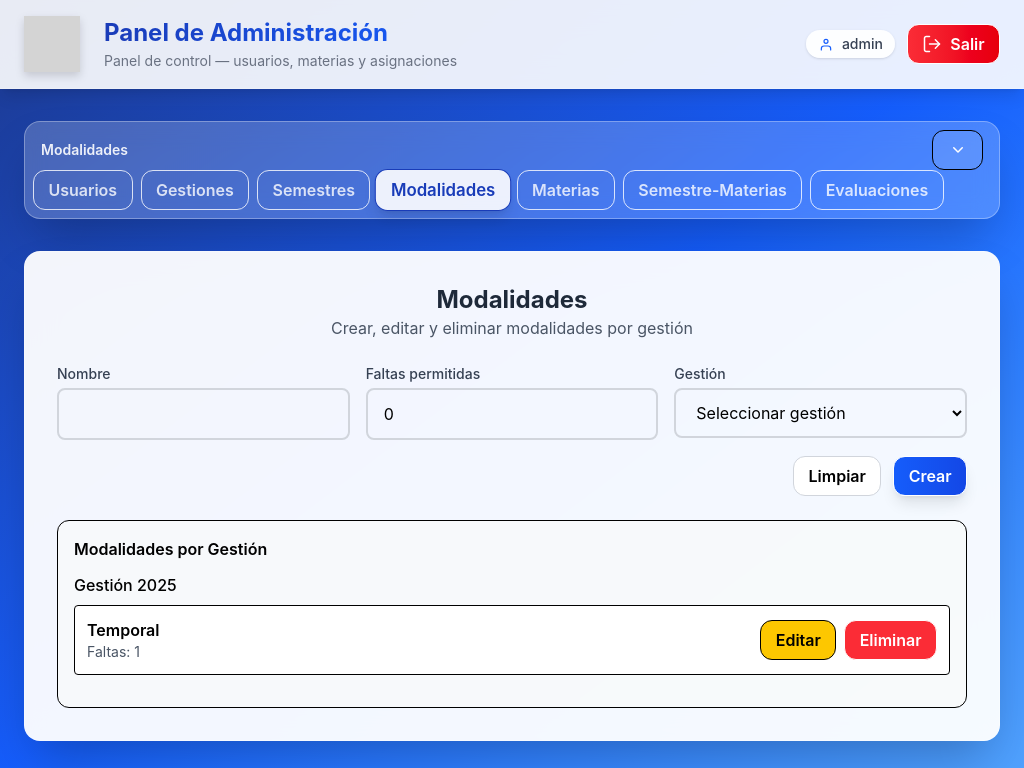
Test: E2E - Admin Modalidades (CRUD) › deletes a modalidad
// Esperar selector y crear la modalidad Temporal
Select "2025" in the dropdown named "gestionId" at (821, 413), box [674, 388, 967, 438]
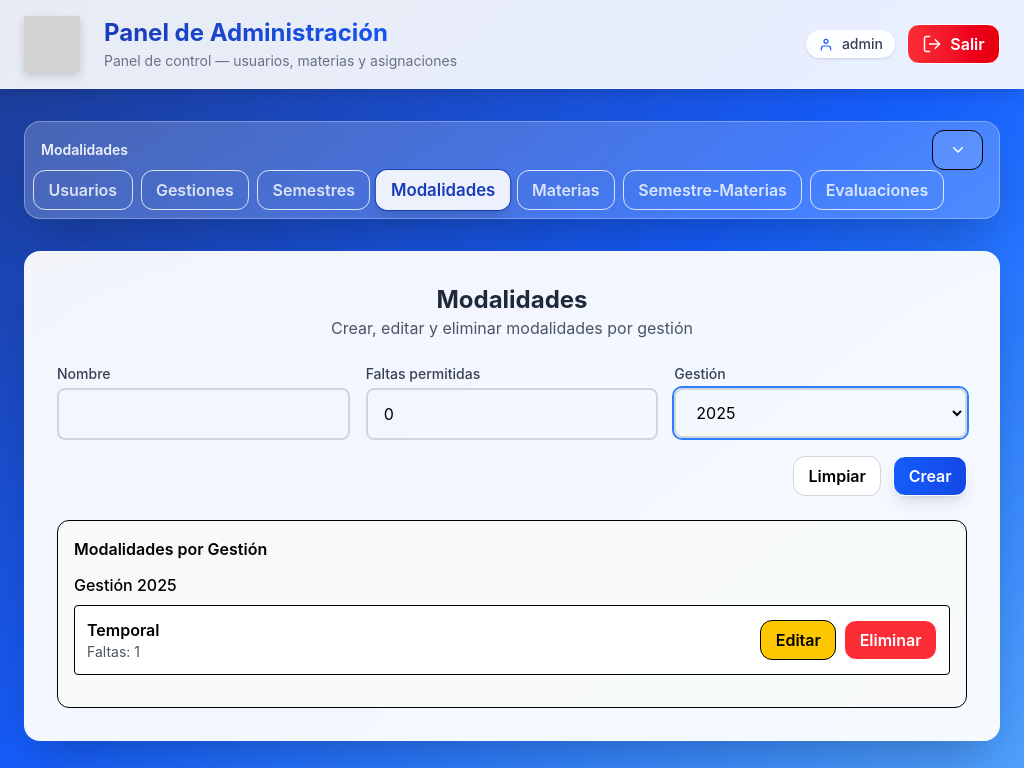
Type "Temporal" into the field named "nombre" at (204, 414), box [57, 388, 350, 440]
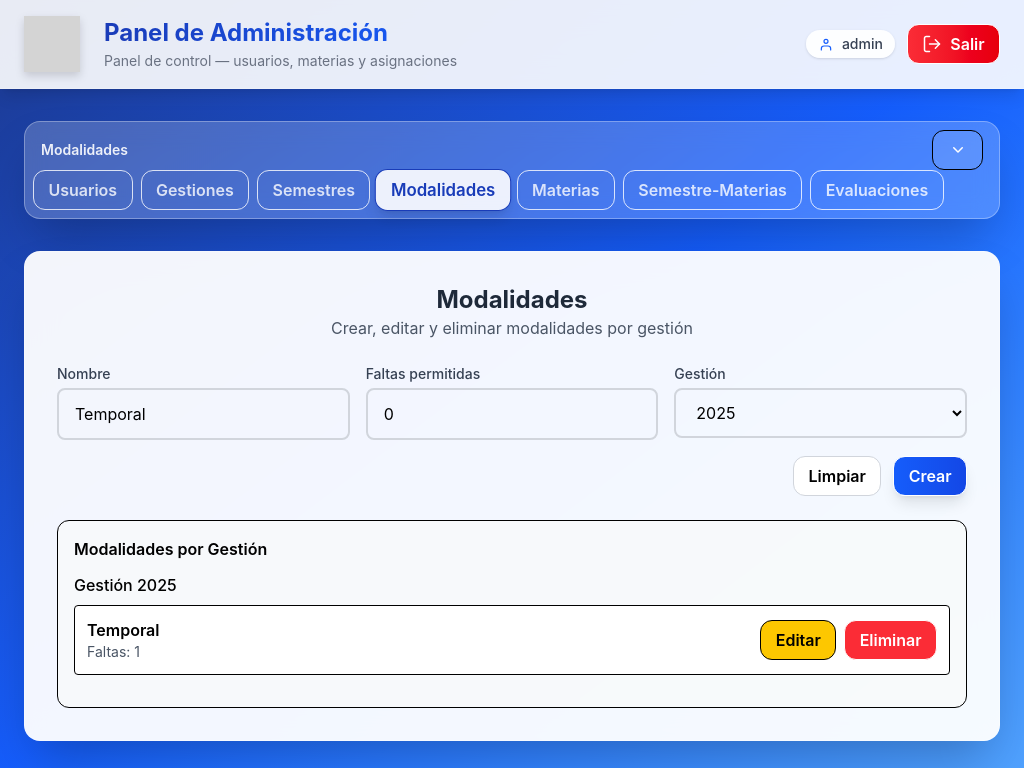
Replace the text in the number field named "faltasPermitidas" with "1" at (513, 414), box [366, 388, 659, 440]
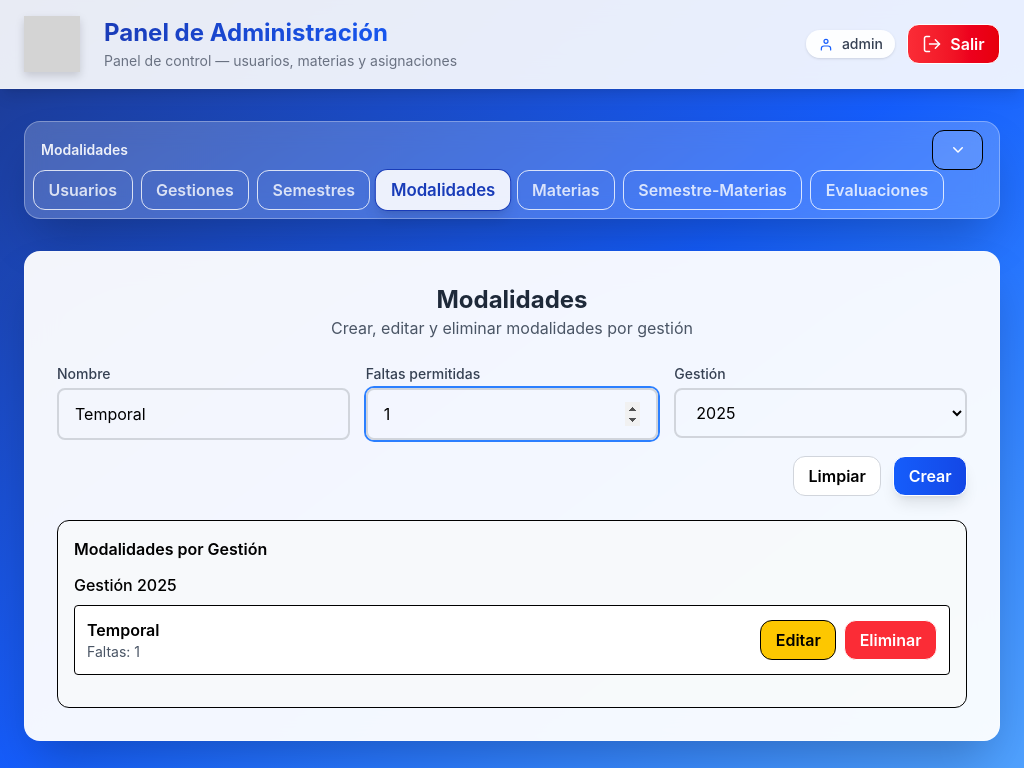
Click the button "Crear" at (930, 476), box [893, 456, 967, 496]
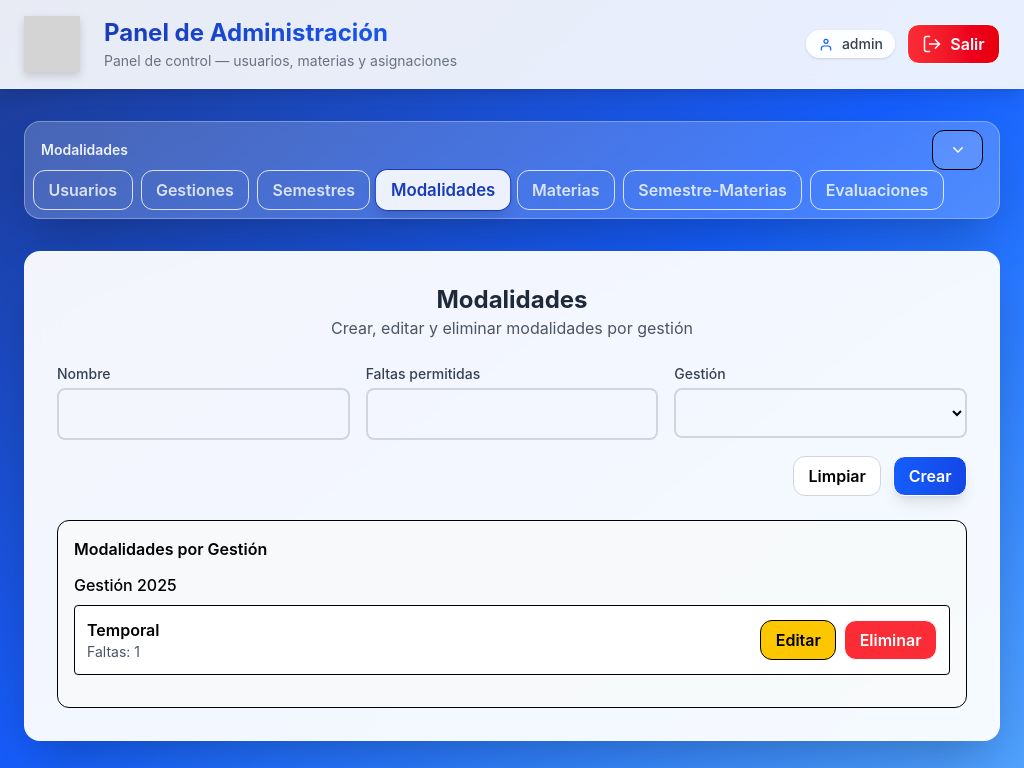
Expected: the text "Temporal" is shown, [87, 620, 160, 640]
// Ejecutar la eliminación desde la UI
Click the button "Eliminar" at (891, 640), box [844, 620, 937, 660]
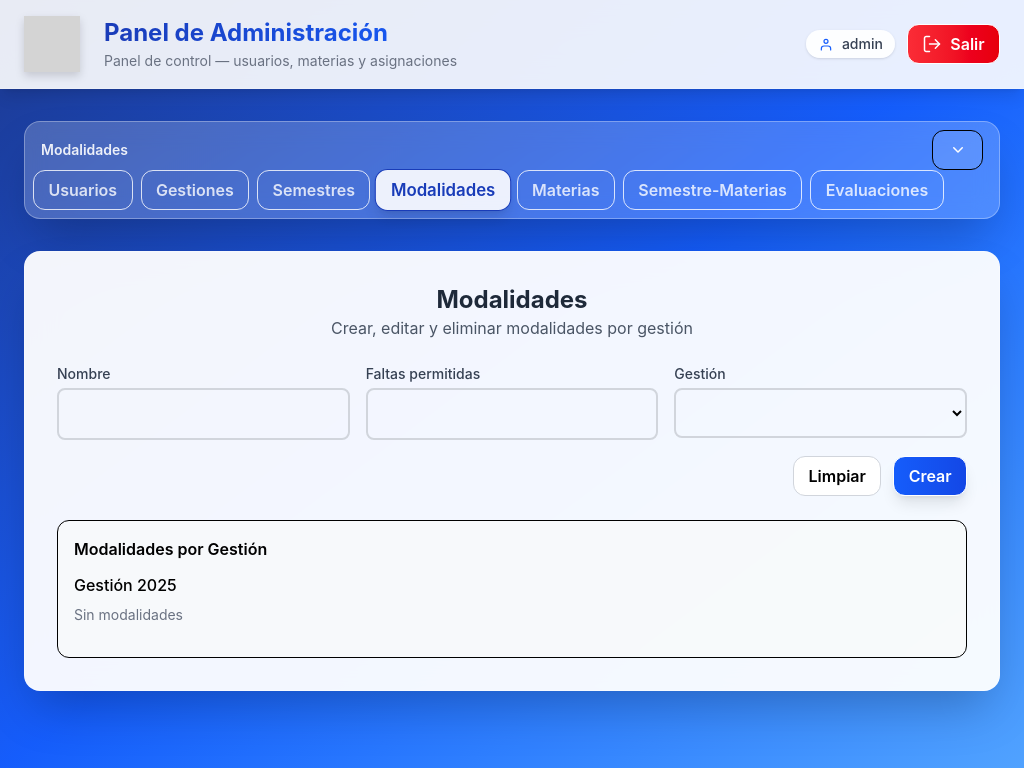
Expected: the text "Temporal" is gone
